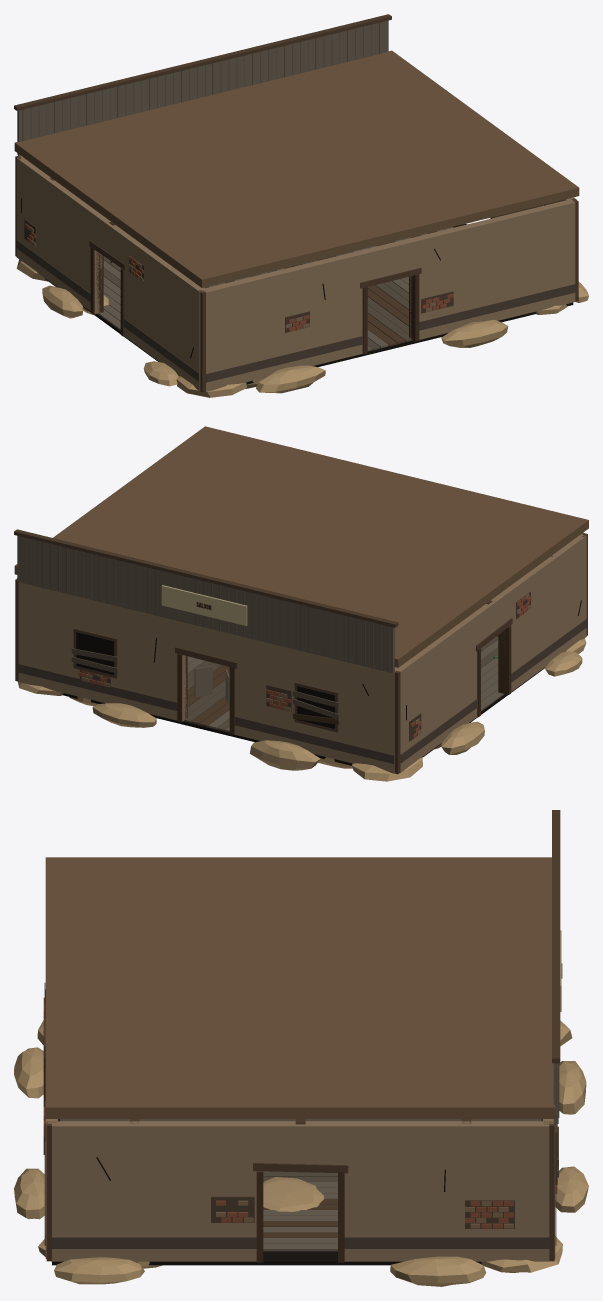
Rendered from TownBldg_saloon.glb.
3 renders of one model, top to bottom at view 1: azimuth 30°, elevation 25°; view 2: azimuth 150°, elevation 25°; view 3: azimuth 270°, elevation 25°, orthographic. The views are drawn at different scales.
Visible parts, largest first — view 1: TownBldg_saloon.001; view 2: TownBldg_saloon.001; view 3: TownBldg_saloon.001.
Part boxes in pixels (x1,y1,x2,y2): TownBldg_saloon.001: (14,14,588,397); TownBldg_saloon.001: (14,426,588,781); TownBldg_saloon.001: (14,810,588,1286).
Size of the model in its own units: 15.91 by 5.96 by 13.88.
